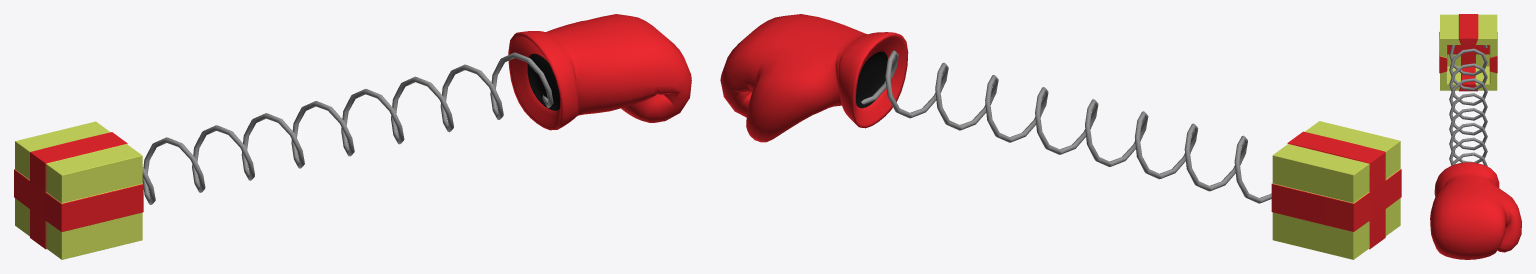
Rendered from weapon_boxing_glove.fbx.
The picture shows the model from 3 angles, left to right: view 1: azimuth 30°, elevation 25°; view 2: azimuth 150°, elevation 25°; view 3: azimuth 270°, elevation 25°; orthographic projection. The views are drawn at different scales.
Visible parts, largest first — view 1: Bxing_glove, PresentBox, Spring; view 2: Bxing_glove, PresentBox, Spring; view 3: Bxing_glove, PresentBox, Spring.
Boxes of the visible parts, bbox=[...] form: Bxing_glove: bbox=[508, 14, 691, 130]; PresentBox: bbox=[14, 121, 143, 259]; Spring: bbox=[142, 52, 553, 204]; Bxing_glove: bbox=[720, 14, 908, 142]; PresentBox: bbox=[1271, 121, 1401, 259]; Spring: bbox=[860, 50, 1271, 203]; Bxing_glove: bbox=[1430, 162, 1521, 259]; PresentBox: bbox=[1439, 14, 1497, 91]; Spring: bbox=[1449, 45, 1487, 166].
Bounding box in the file's own units: 770 × 120 × 157.
